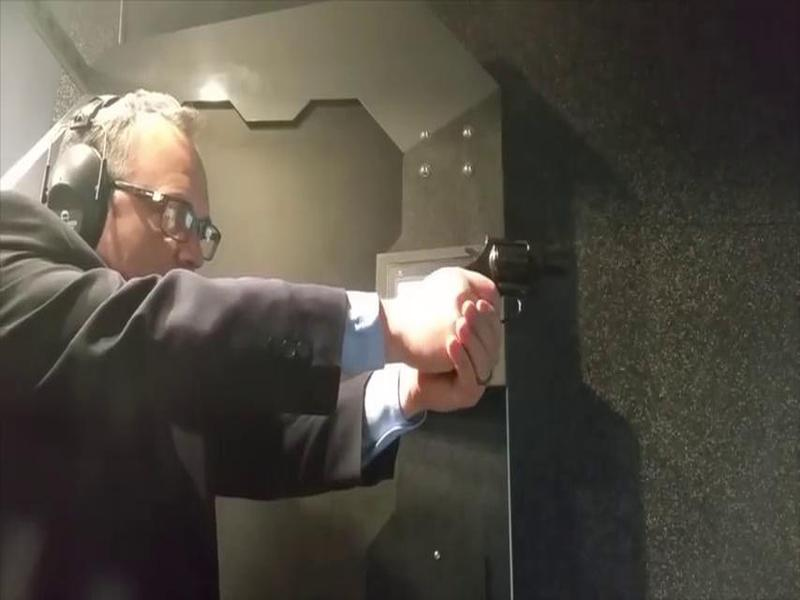Revolver: (430, 223, 595, 338)
